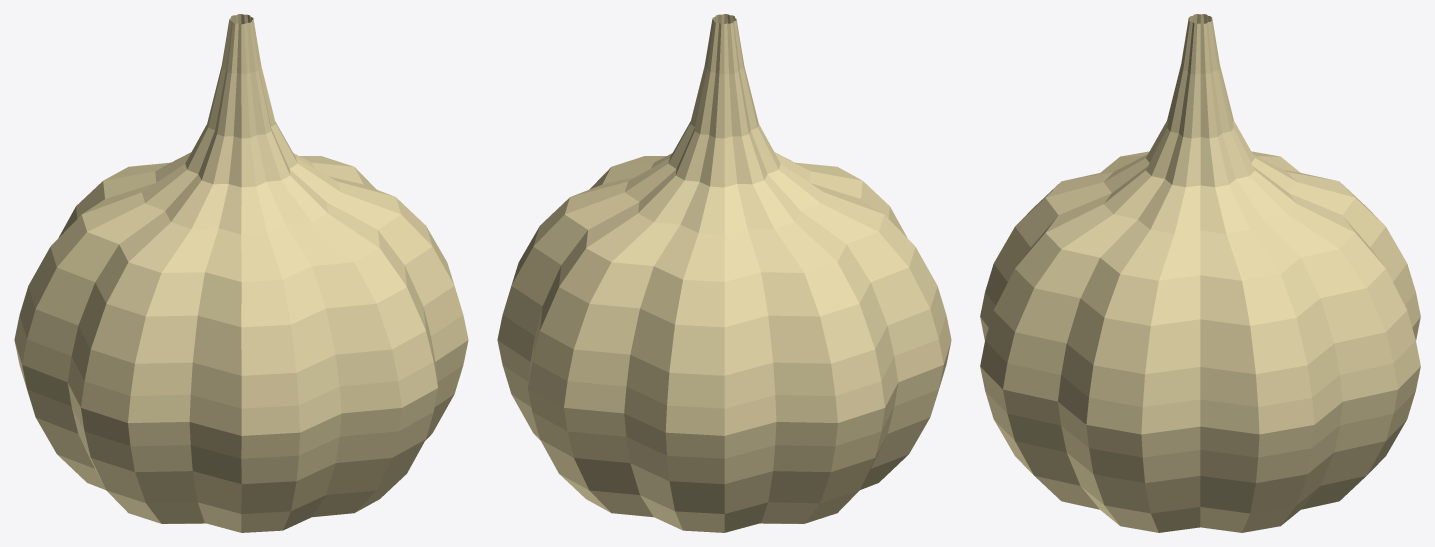
The model's file is Garlic.fbx.
3 renders of one model, left to right at view 1: azimuth 30°, elevation 25°; view 2: azimuth 150°, elevation 25°; view 3: azimuth 270°, elevation 25°, orthographic.
Visible parts, largest first — view 1: Garlic; view 2: Garlic; view 3: Garlic.
Part boxes in pixels (bbox=[...]): Garlic: bbox=[14, 14, 468, 532]; Garlic: bbox=[497, 14, 951, 532]; Garlic: bbox=[980, 14, 1420, 532].
Size of the model in its own units: 219 by 262 by 219.
